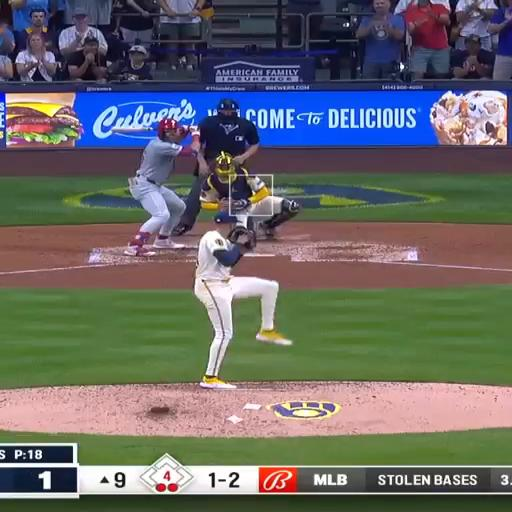bat: (111, 128, 154, 132)
